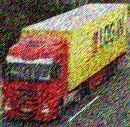truck: (2, 3, 128, 122)
